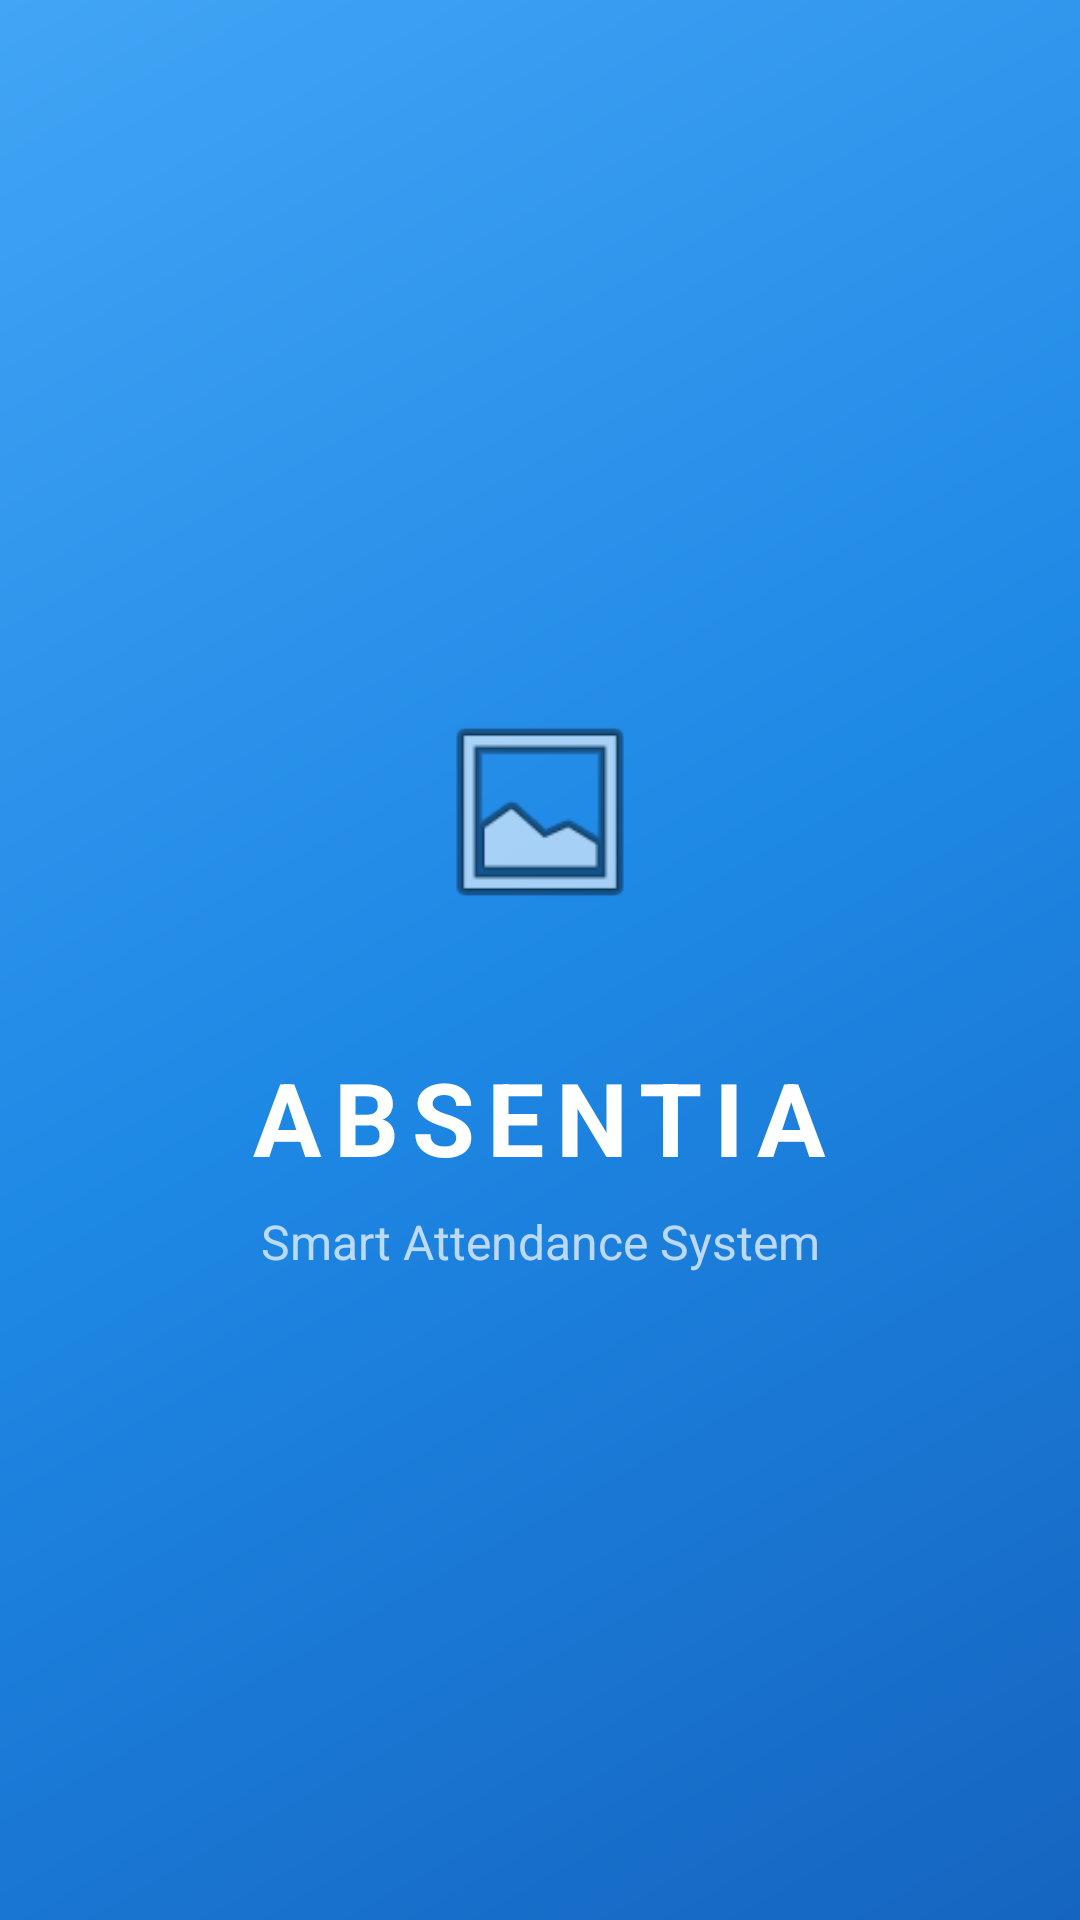

Icon click points for this 1080 x 1920 phone screenshot, format (x=x, y=y):
gallery: (x=540, y=812)
